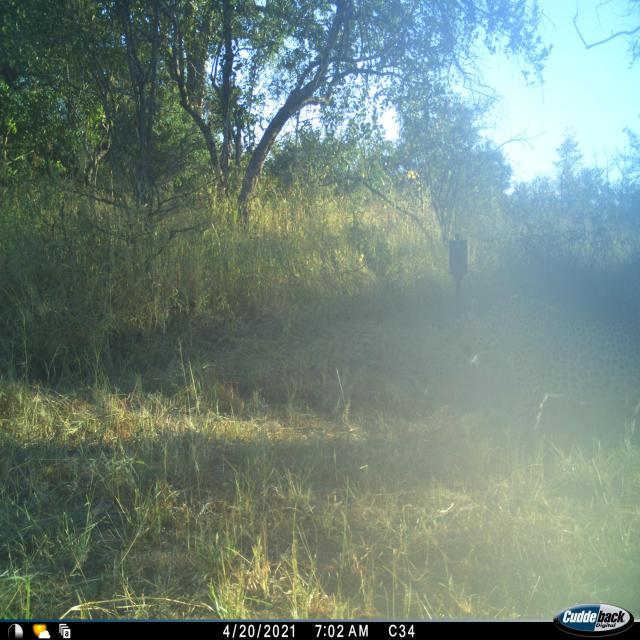Leopard: (454, 288, 638, 441)
